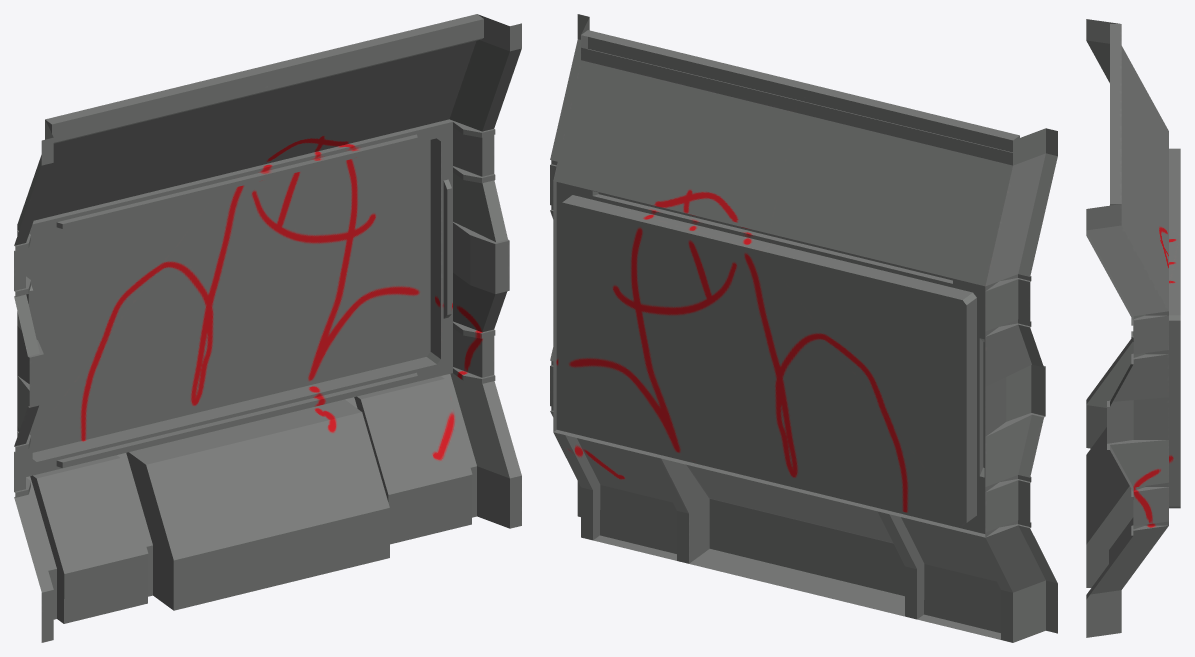
The model's file is Wall_empty.fbx.
3 renders of one model, left to right at view 1: azimuth 30°, elevation 25°; view 2: azimuth 150°, elevation 25°; view 3: azimuth 270°, elevation 25°, orthographic. The views are drawn at different scales.
Parts seen in each view (by area): view 1: node_id4; view 2: node_id4; view 3: node_id4.
Boxes of the visible parts, <box> form: node_id4: <box>14,14,521,642</box>; node_id4: <box>550,14,1057,642</box>; node_id4: <box>1086,19,1180,637</box>.
Size of the model in its own units: 0.512 by 0.512 by 0.1024.
1 material, 1 textured.
